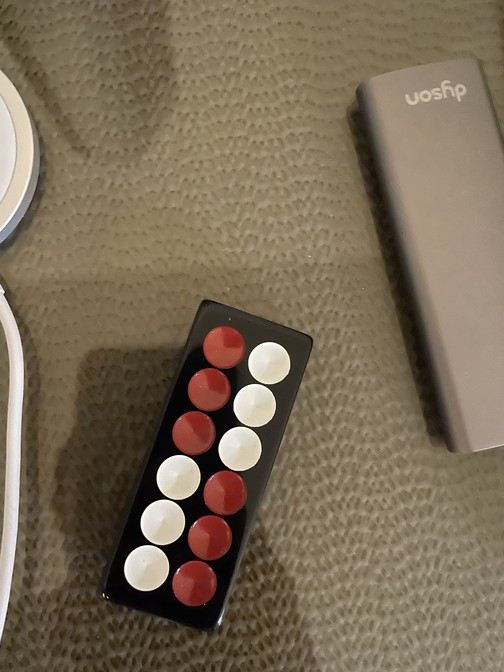heaven: (100, 300, 314, 636)
